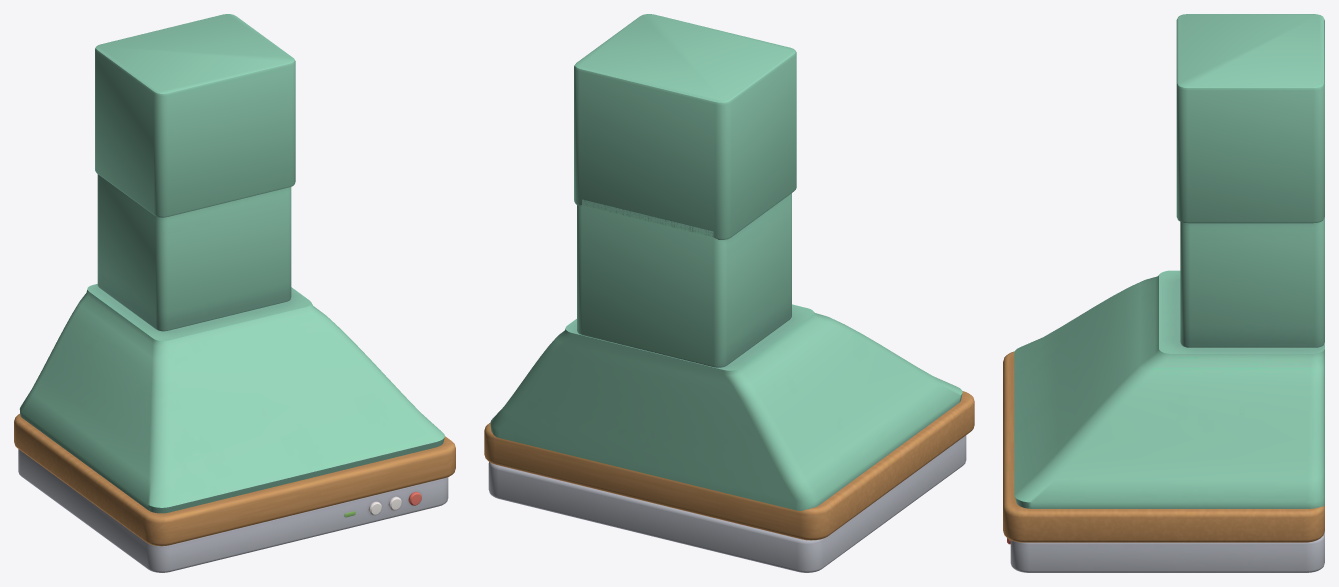
File: range-hood.glb
3 renders of one model, left to right at view 1: azimuth 30°, elevation 25°; view 2: azimuth 150°, elevation 25°; view 3: azimuth 270°, elevation 25°, orthographic. The views are drawn at different scales.
Visible parts, largest first — view 1: range-hood_body; view 2: range-hood_body; view 3: range-hood_body.
Part boxes in pixels (left/top/right/bottom): range-hood_body: left=14, top=14, right=455, bottom=572; range-hood_body: left=484, top=14, right=974, bottom=572; range-hood_body: left=1003, top=14, right=1324, bottom=572.
Size of the model in its own units: 0.62 by 0.7824 by 0.512.
2 materials, 1 textured.
